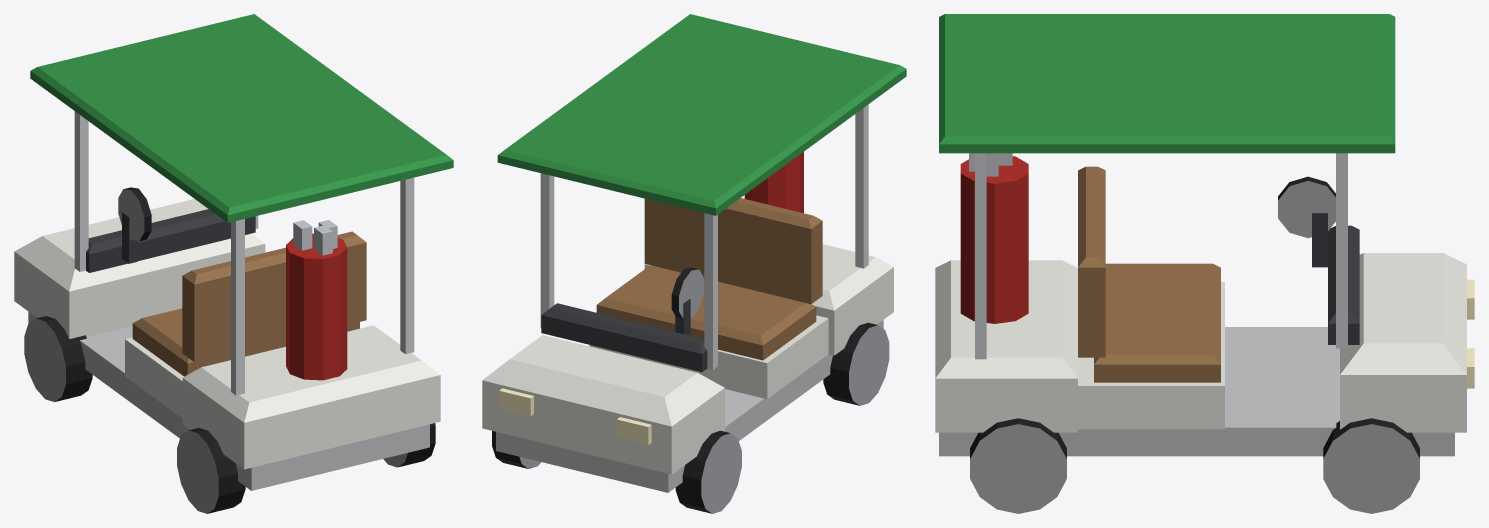
Rendered from cart_green.glb.
3 renders of one model, left to right at view 1: azimuth 30°, elevation 25°; view 2: azimuth 150°, elevation 25°; view 3: azimuth 270°, elevation 25°, orthographic. The views are drawn at different scales.
Visible parts, largest first — view 1: cart_body; view 2: cart_body; view 3: cart_body.
Part boxes in pixels (box(x1,y1,x2,y2)): cart_body: box(14, 14, 453, 513); cart_body: box(482, 14, 906, 513); cart_body: box(935, 14, 1474, 513).
Bounding box in the file's own units: 1.52 × 2.1 × 2.72.
Materials: 1 (1 with a texture image).
